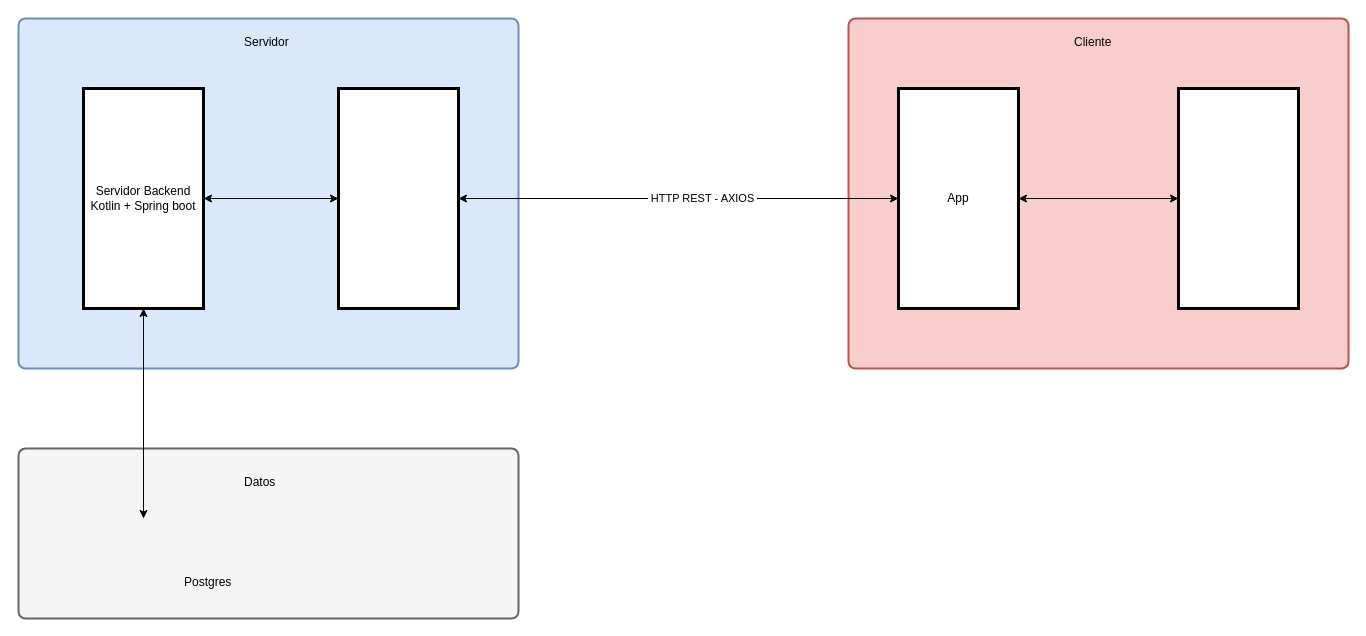
The diagram is 1366 pixels wide and 636 high, and some of its shapes have lost their labels. Each missing label, with the centre of its shape:
Componentes de UI: the point at 1238,198
Servicio RESTful: the point at 398,198
